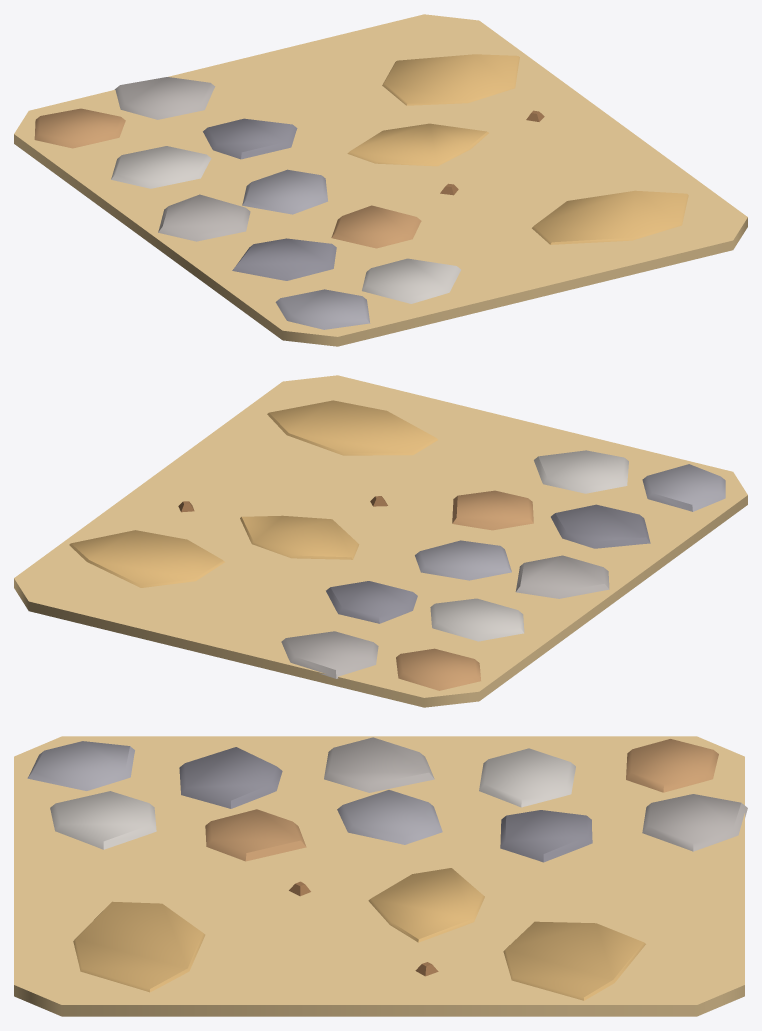
Rendered from terrarium_floor_snake.glb.
The picture shows the model from 3 angles, top to bottom: view 1: azimuth 30°, elevation 25°; view 2: azimuth 150°, elevation 25°; view 3: azimuth 270°, elevation 25°; orthographic projection. The views are drawn at different scales.
Visible parts, largest first — view 1: terrarium_floor_snake; view 2: terrarium_floor_snake; view 3: terrarium_floor_snake.
Boxes of the visible parts, box(x1,y1,x2,y2) form: terrarium_floor_snake: box(14, 14, 747, 346); terrarium_floor_snake: box(14, 375, 747, 707); terrarium_floor_snake: box(14, 736, 747, 1016).
Size of the model in its own units: 4 by 0.13 by 4.62.
1 material, 1 textured.
